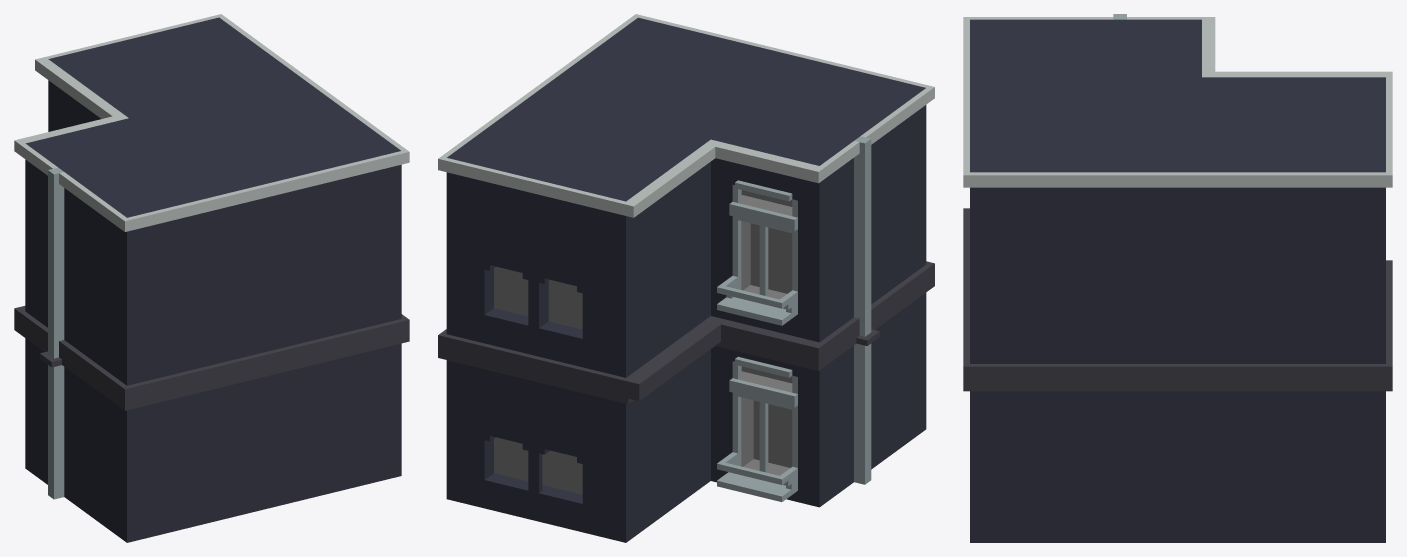
Rendered from Building004(1).obj.
3 renders of one model, left to right at view 1: azimuth 30°, elevation 25°; view 2: azimuth 150°, elevation 25°; view 3: azimuth 270°, elevation 25°, orthographic. The views are drawn at different scales.
Bounding box in the file's own units: 5.7 × 6 × 6.3.
1 material, 1 textured.
